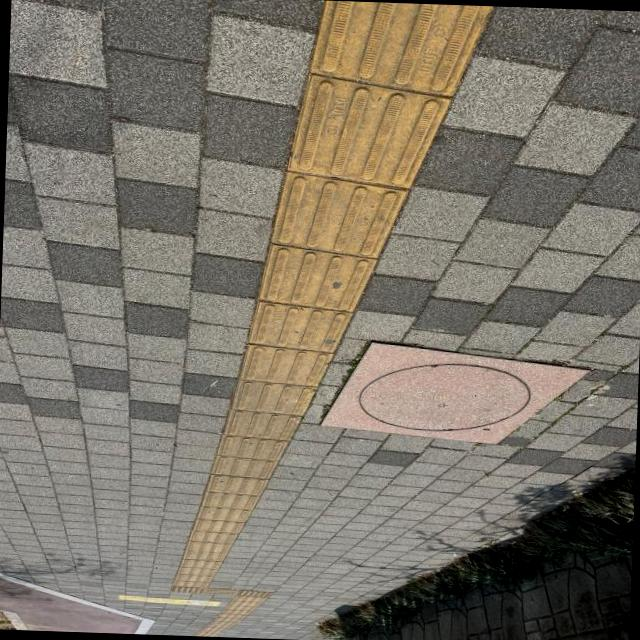manhole: (311, 326, 597, 458)
